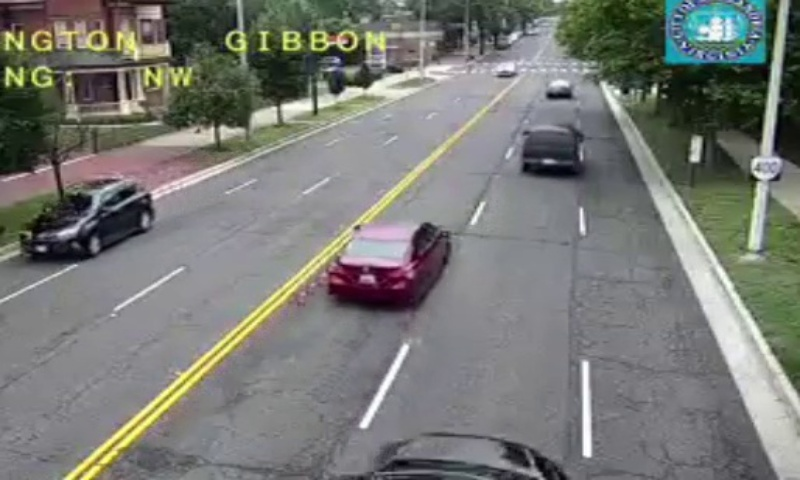car: (328, 222, 451, 301), (519, 126, 575, 168), (544, 79, 571, 100)
